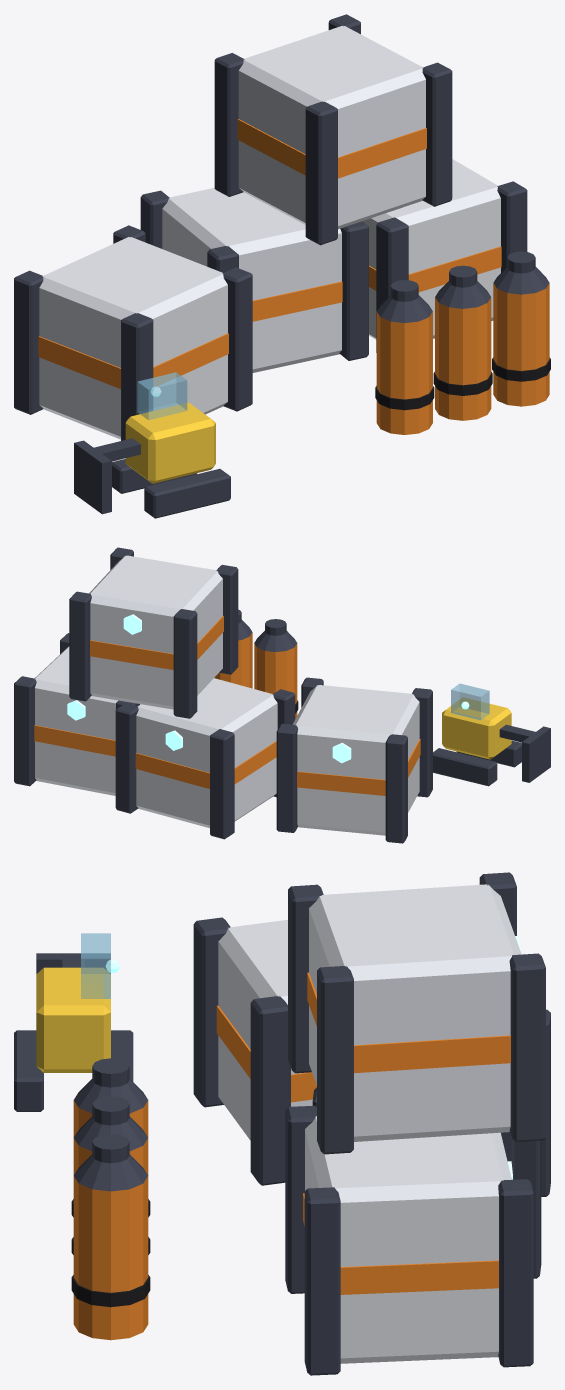
Rendered from CargoPods.fbx.
The picture shows the model from 3 angles, top to bottom: view 1: azimuth 30°, elevation 25°; view 2: azimuth 150°, elevation 25°; view 3: azimuth 270°, elevation 25°; orthographic projection. The views are drawn at different scales.
Parts seen in each view (by area): view 1: CargoPods_MoonWhite, CargoPods_MoonDark, CargoPods_Orange, CargoPods_Yellow, CargoPods_Black, CargoPods_Glass; view 2: CargoPods_MoonWhite, CargoPods_MoonDark, CargoPods_Orange, CargoPods_Yellow, CargoPods_NeonCyan, CargoPods_Glass; view 3: CargoPods_MoonWhite, CargoPods_MoonDark, CargoPods_Orange, CargoPods_Yellow, CargoPods_Glass, CargoPods_Black.
Boxes of the visible parts, bbox=[...] form: CargoPods_MoonWhite: bbox=[39, 25, 500, 439]; CargoPods_MoonDark: bbox=[14, 14, 549, 518]; CargoPods_Orange: bbox=[38, 119, 549, 434]; CargoPods_Yellow: bbox=[125, 402, 215, 483]; CargoPods_Black: bbox=[375, 357, 550, 410]; CargoPods_Glass: bbox=[137, 372, 187, 419]; CargoPods_MoonWhite: bbox=[34, 555, 419, 835]; CargoPods_MoonDark: bbox=[14, 547, 550, 843]; CargoPods_Orange: bbox=[34, 616, 420, 795]; CargoPods_Yellow: bbox=[442, 697, 511, 759]; CargoPods_NeonCyan: bbox=[67, 614, 469, 763]; CargoPods_Glass: bbox=[451, 683, 489, 720]; CargoPods_MoonWhite: bbox=[218, 884, 521, 1363]; CargoPods_MoonDark: bbox=[14, 872, 550, 1375]; CargoPods_Orange: bbox=[73, 972, 510, 1340]; CargoPods_Yellow: bbox=[36, 967, 110, 1072]; CargoPods_Glass: bbox=[81, 933, 110, 998]; CargoPods_Black: bbox=[71, 1199, 150, 1307].
Size of the model in its own units: 21.73 by 10.4 by 14.39.
